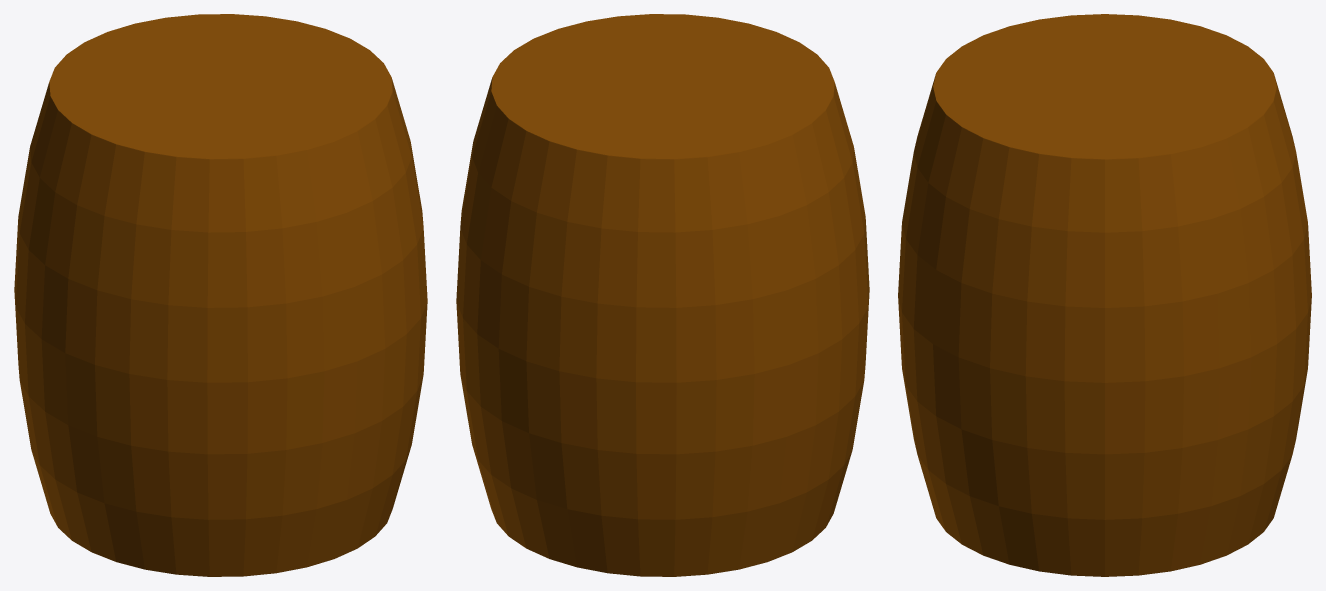
Rendered from bdevil2_barrell.fbx.
The picture shows the model from 3 angles, left to right: view 1: azimuth 30°, elevation 25°; view 2: azimuth 150°, elevation 25°; view 3: azimuth 270°, elevation 25°; orthographic projection.
Visible parts, largest first — view 1: Barrell; view 2: Barrell; view 3: Barrell.
Boxes of the visible parts, box(x1,y1,x2,y2) form: Barrell: box(14, 14, 427, 576); Barrell: box(456, 14, 869, 576); Barrell: box(898, 14, 1311, 576).
Bounding box in the file's own units: 200 × 223 × 200.
